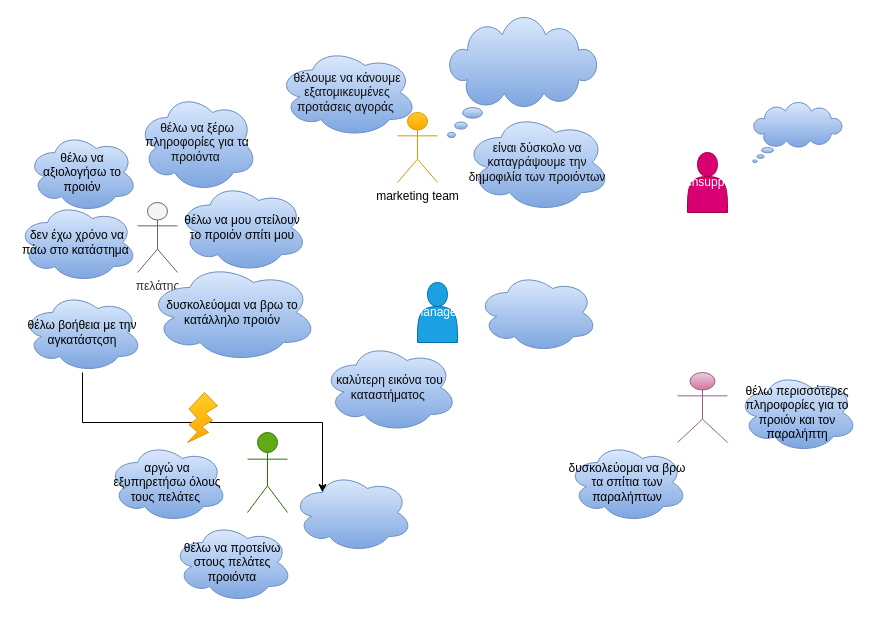
Image size: 875x620. Some labels were removed from this diagram. Here are the shapes that lost their labels. From the top down, the centre of each, then its label:
At point (522, 77): "θέλουμε να ξέρουμε την άποψη του κόσμου για τα προιόντα".
At point (702, 407): "διανομέας".
At point (352, 512): "μου ζητάνε τεχνικές λεπτομέριες που δεν γνωρίζω".
